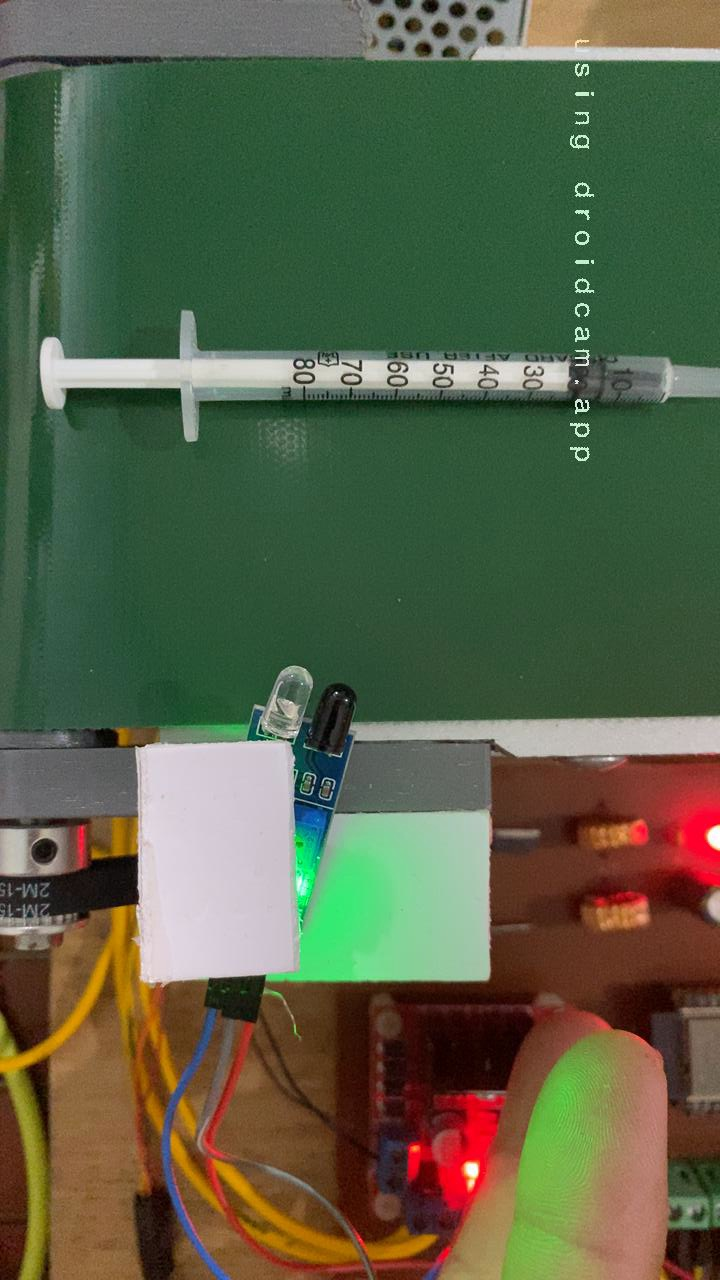syringe: (32, 305, 720, 450)
